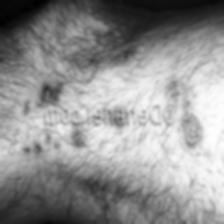Non-Cancerous Skin Condition: (1, 130, 96, 180), (18, 61, 73, 107), (182, 106, 208, 154), (105, 38, 143, 66), (162, 76, 200, 98)
